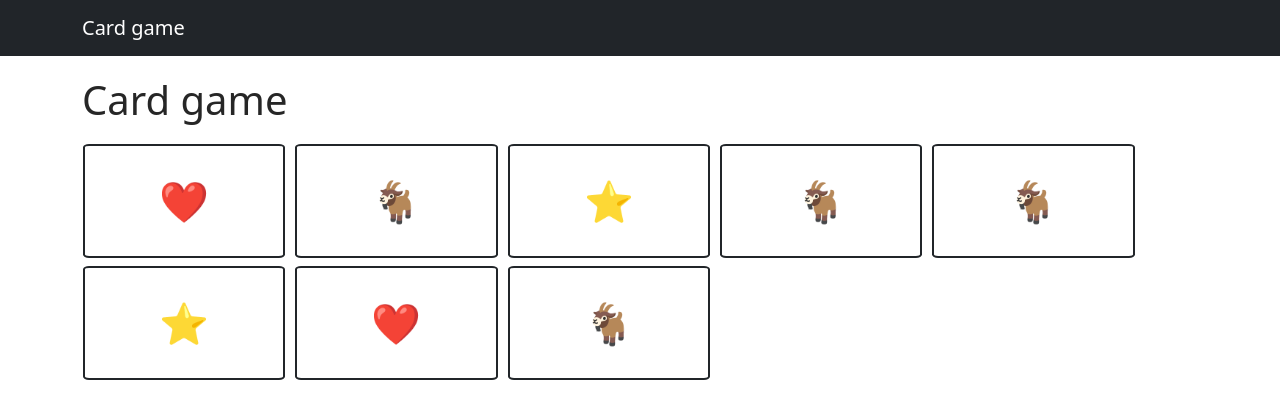
Defining the moves the player can do › should be able to select two cards with the same content diagonally - topLeft to bottomRight
Step 1. Click the element with test id "card-1" → coordinates (184, 201), box [83, 144, 285, 258]
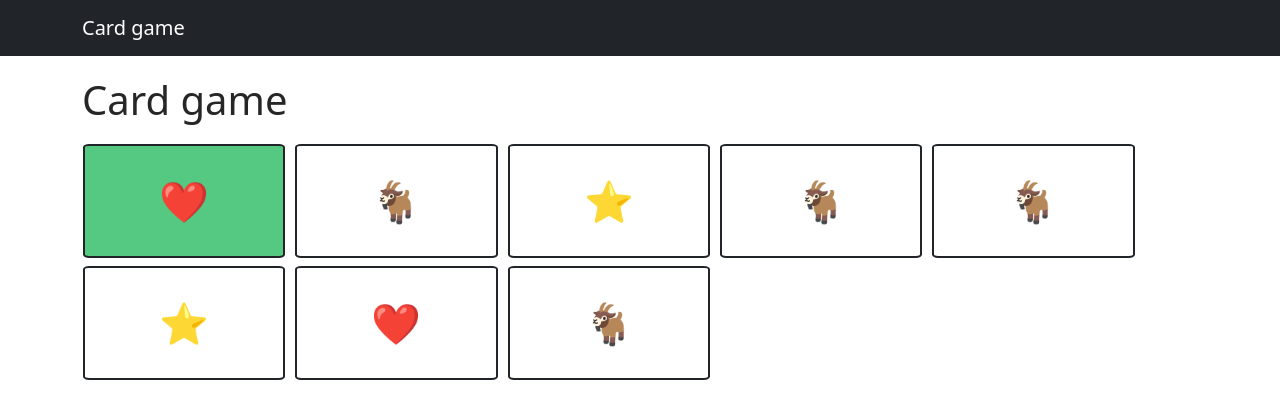
Step 2. Click the element with test id "card-7" → coordinates (396, 323), box [295, 266, 497, 380]
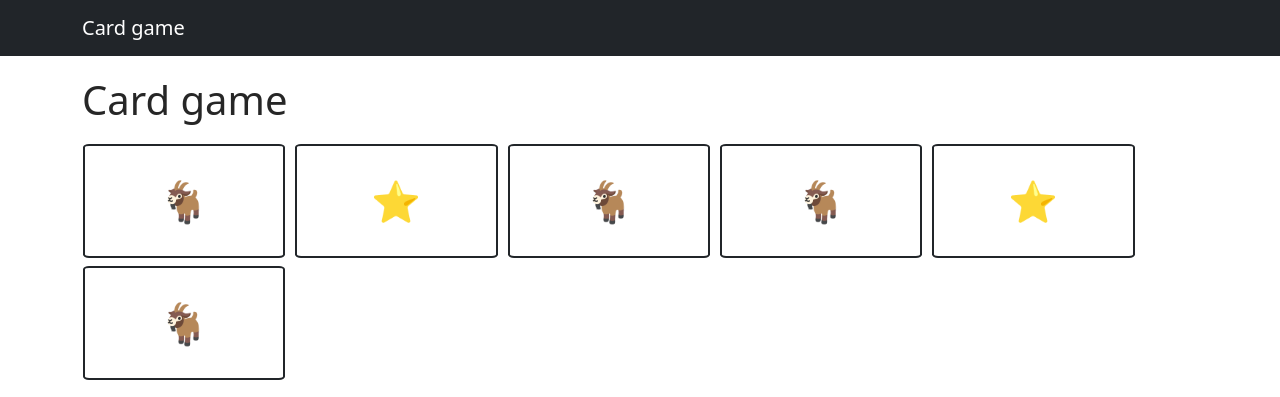
expect the 1st text "⭐" is shown: met, box [372, 173, 422, 228]
expect the text "❤️" is gone: met
